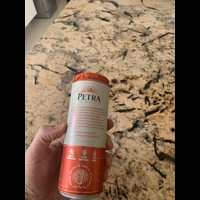petra: (56, 69, 112, 197)
